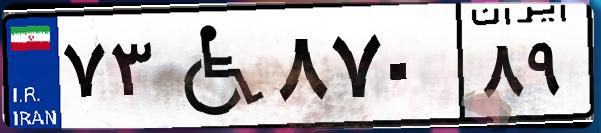0: (385, 28, 445, 110)
3: (110, 28, 158, 98)
7: (330, 28, 385, 110), (57, 26, 110, 100)
8: (270, 28, 330, 110), (475, 38, 525, 113)
9: (525, 38, 570, 115)
ژ (معلولین و جانبازان): (158, 12, 270, 120)
